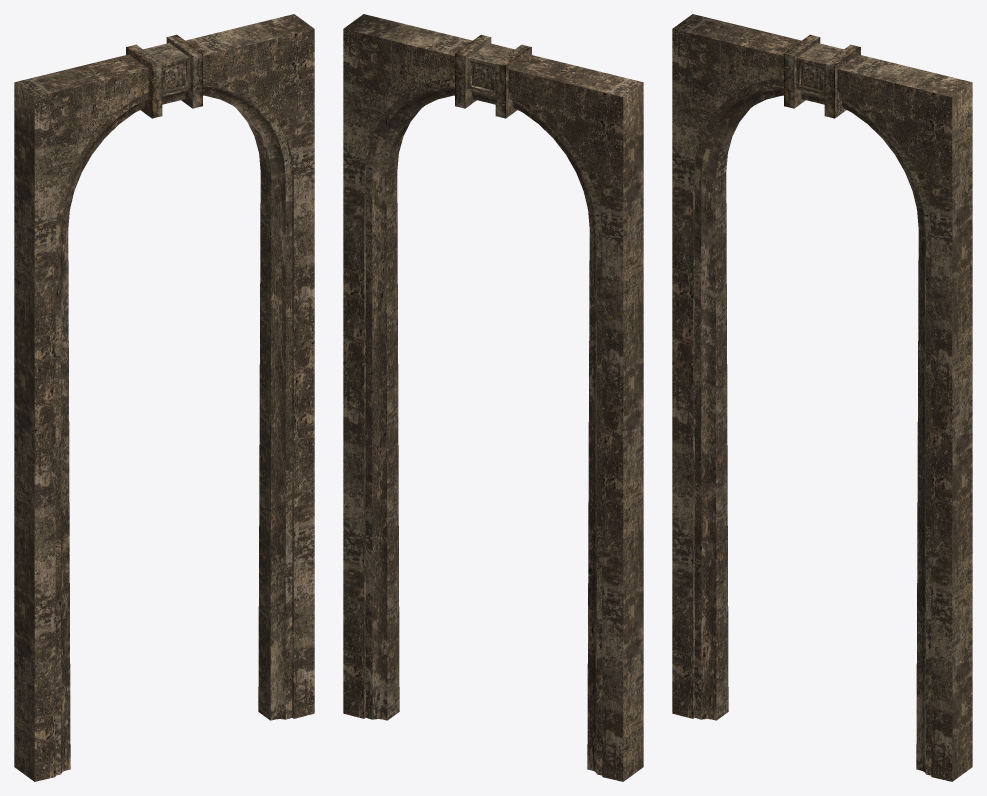
Rendered from materials_5_wall_rectangle_13.fbx.
3 renders of one model, left to right at view 1: azimuth 30°, elevation 25°; view 2: azimuth 150°, elevation 25°; view 3: azimuth 330°, elevation 25°, orthographic.
Visible parts, largest first — view 1: materials_5_wall_rectangle_13; view 2: materials_5_wall_rectangle_13; view 3: materials_5_wall_rectangle_13.
Boxes of the visible parts, bbox=[...] form: materials_5_wall_rectangle_13: bbox=[14, 14, 314, 781]; materials_5_wall_rectangle_13: bbox=[343, 14, 643, 781]; materials_5_wall_rectangle_13: bbox=[672, 14, 972, 781].
Size of the model in its own units: 426 by 1005 by 68.6.
